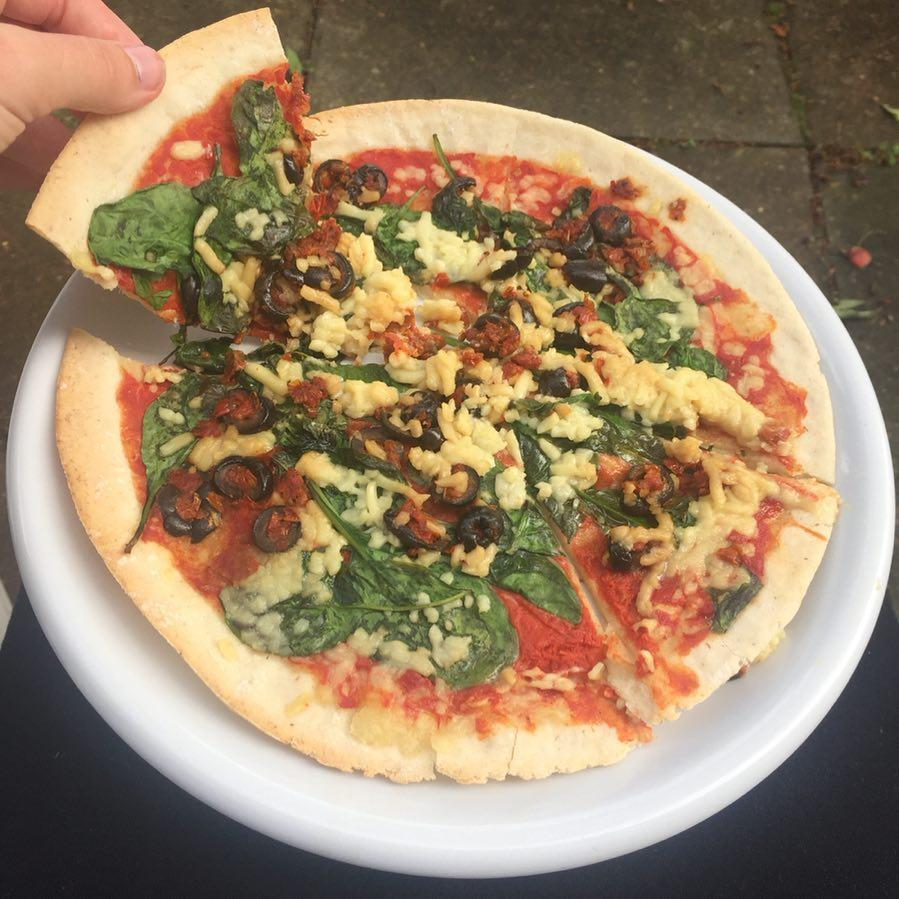Basil: (358, 555, 524, 692), (479, 463, 588, 626), (604, 269, 732, 378), (221, 561, 357, 654), (84, 182, 218, 272), (530, 391, 671, 464), (136, 373, 210, 478), (231, 82, 300, 180), (333, 199, 424, 271), (432, 183, 490, 234)
Olives: (162, 485, 217, 536), (214, 456, 273, 499), (255, 507, 300, 553), (349, 428, 392, 469), (259, 268, 293, 319), (432, 466, 479, 502), (592, 205, 632, 244), (351, 163, 386, 207), (462, 507, 501, 546), (239, 391, 276, 432), (528, 234, 592, 257), (566, 257, 609, 290)
Pizza: (58, 101, 835, 783)
